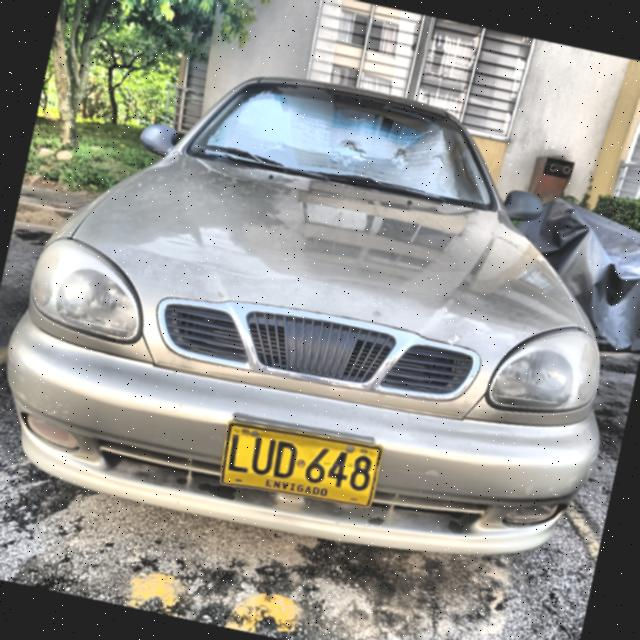plate: (219, 419, 383, 509)
